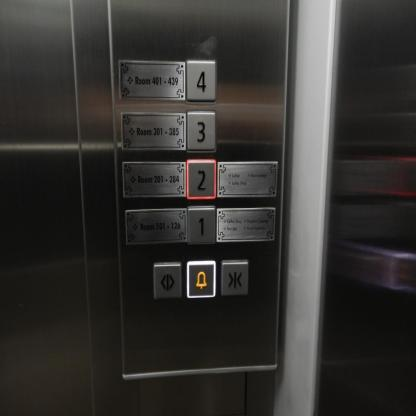1: (185, 203, 216, 246)
2: (185, 155, 216, 201)
3: (185, 107, 218, 154)
4: (185, 57, 218, 104)
alarm: (185, 256, 216, 300)
close: (218, 256, 249, 299)
open: (151, 259, 182, 302)
